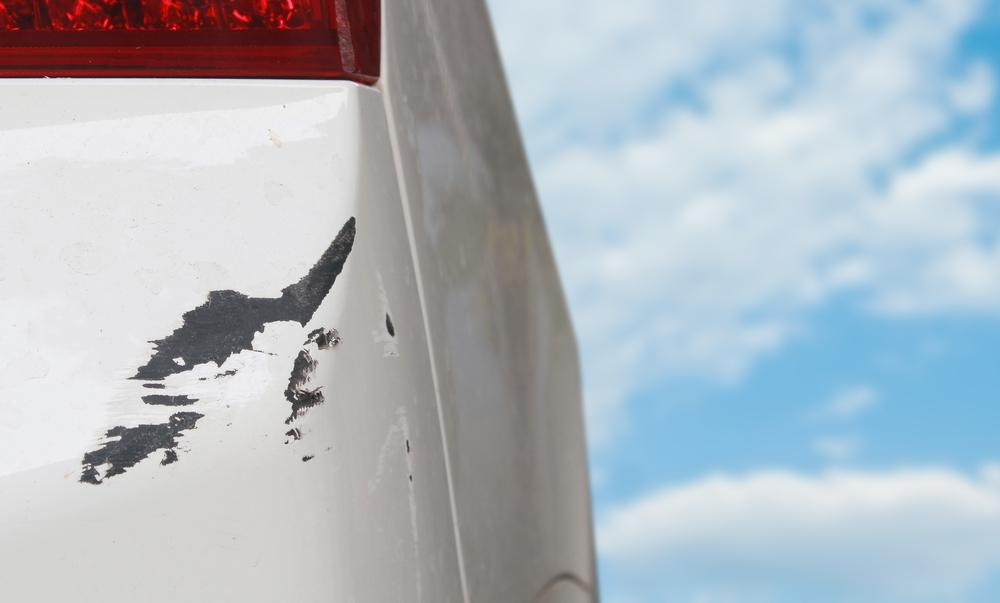scratch: (61, 203, 367, 489), (371, 297, 434, 603)
